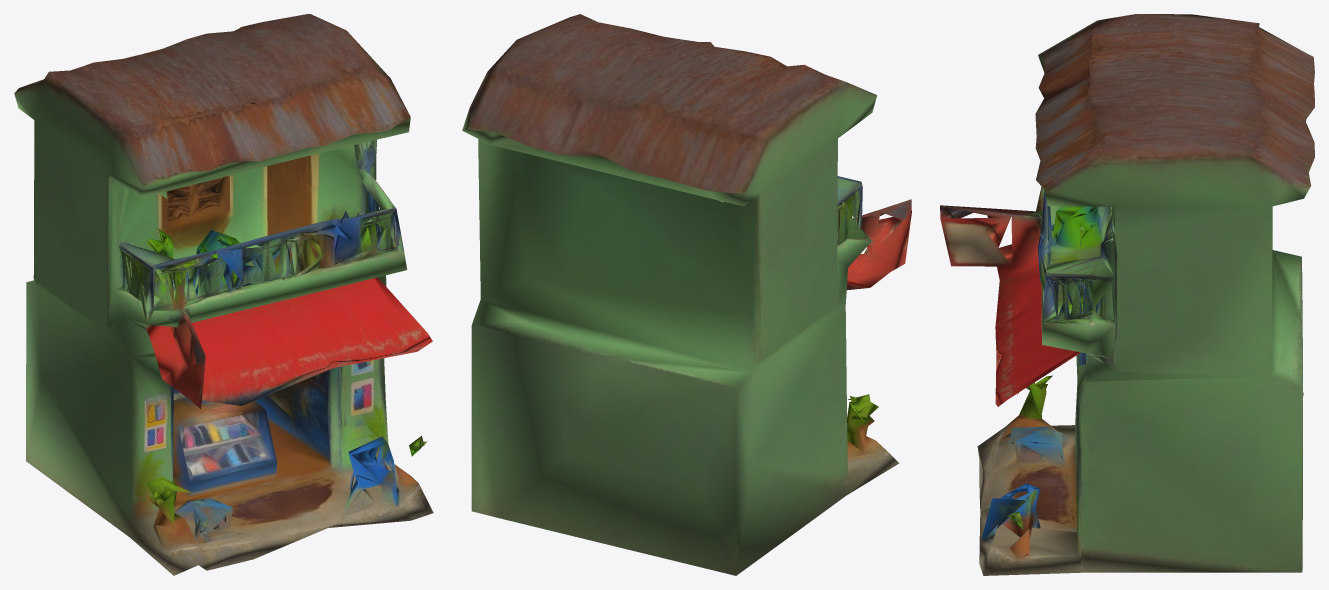
The model's file is building-2.glb.
The picture shows the model from 3 angles, left to right: view 1: azimuth 30°, elevation 25°; view 2: azimuth 150°, elevation 25°; view 3: azimuth 270°, elevation 25°; orthographic projection. The views are drawn at different scales.
Parts seen in each view (by area): view 1: tripo_node_ee156241-aa38-4e31-92f8-3aa3a7f1e555; view 2: tripo_node_ee156241-aa38-4e31-92f8-3aa3a7f1e555; view 3: tripo_node_ee156241-aa38-4e31-92f8-3aa3a7f1e555.
Part boxes in pixels (left/top/right/bottom): tripo_node_ee156241-aa38-4e31-92f8-3aa3a7f1e555: left=14, top=14, right=433, bottom=575; tripo_node_ee156241-aa38-4e31-92f8-3aa3a7f1e555: left=462, top=14, right=911, bottom=575; tripo_node_ee156241-aa38-4e31-92f8-3aa3a7f1e555: left=940, top=14, right=1314, bottom=575.
Size of the model in its own units: 0.6997 by 1 by 0.7853.
1 material, 1 textured.
